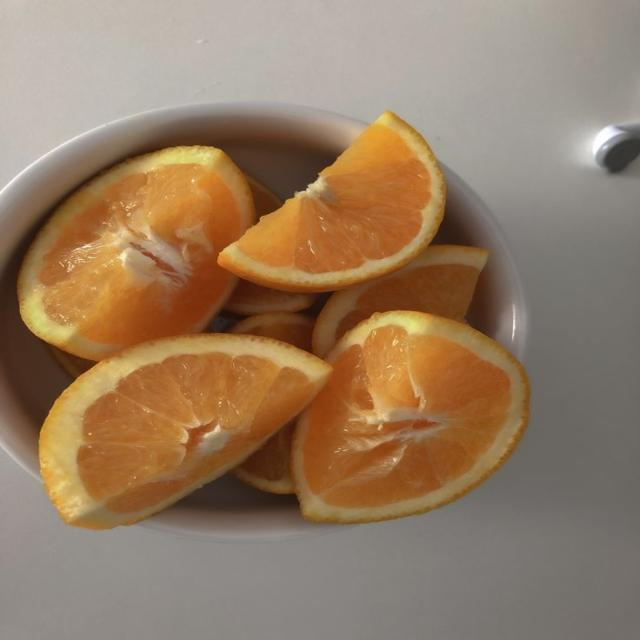orange: (40, 335, 330, 528), (19, 147, 253, 360), (293, 312, 528, 522), (219, 112, 445, 292), (314, 246, 488, 356), (231, 422, 294, 493), (225, 280, 316, 315), (48, 345, 95, 379), (246, 174, 281, 217)
